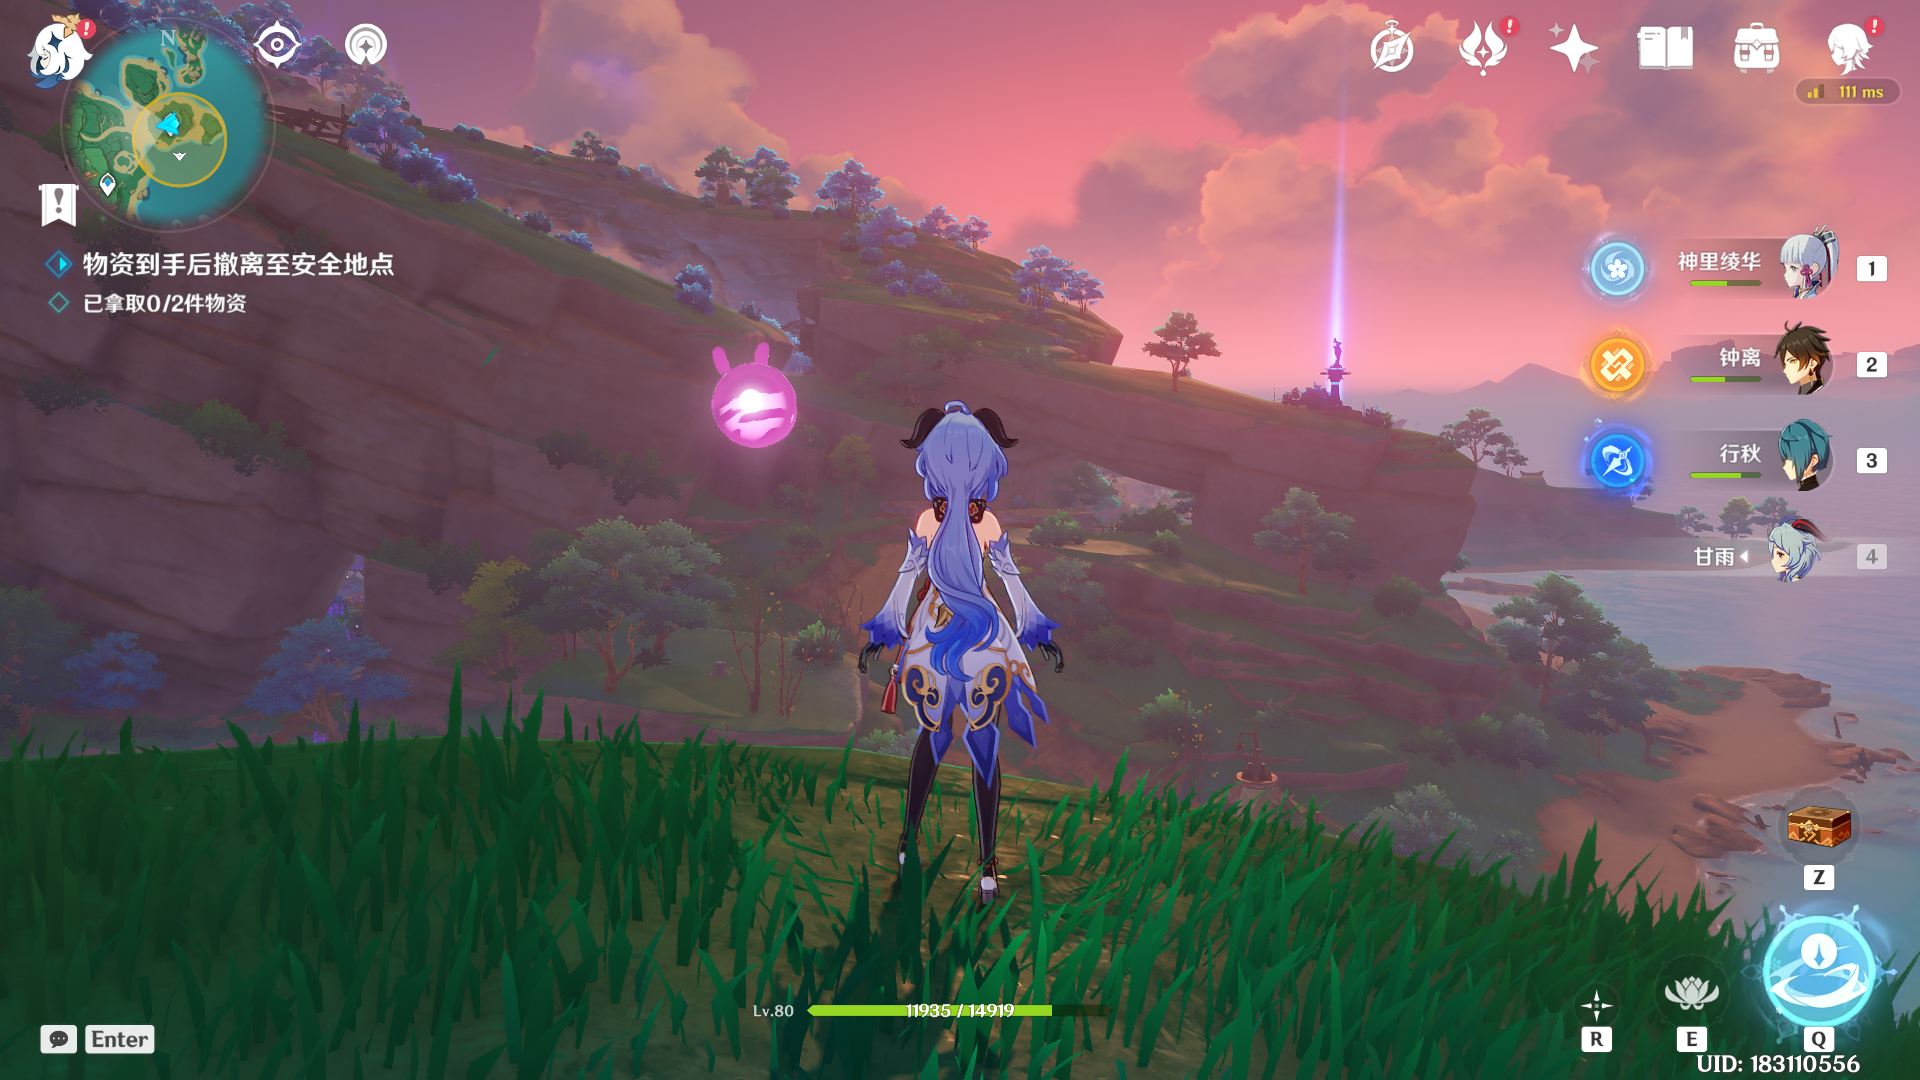character: (812, 367, 1080, 938)
